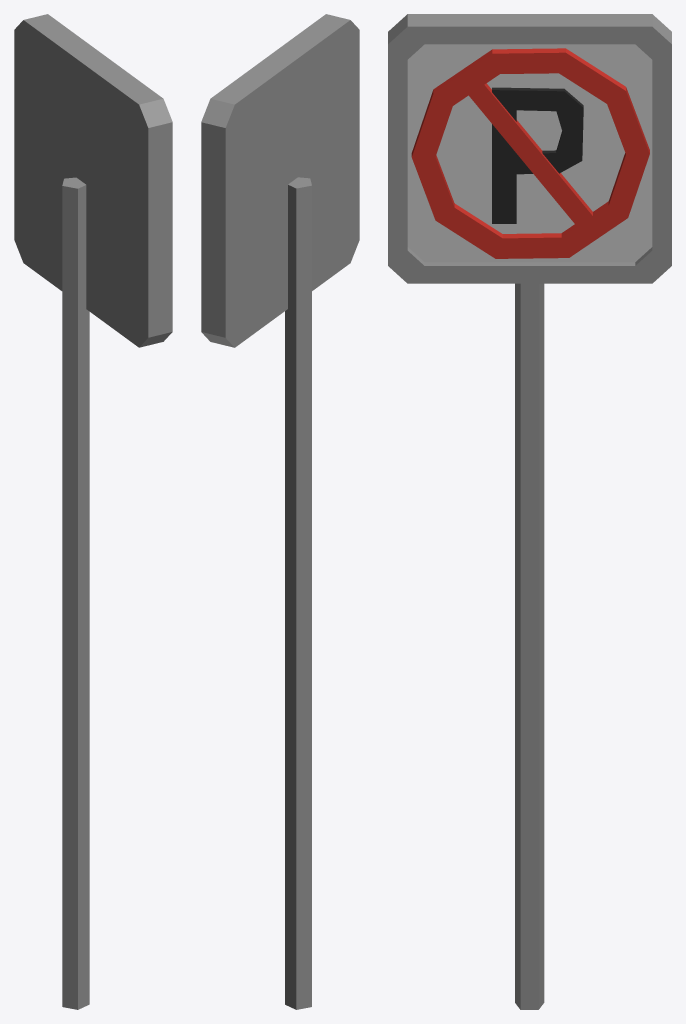
File: sign_noparking.glb
3 renders of one model, left to right at view 1: azimuth 30°, elevation 25°; view 2: azimuth 150°, elevation 25°; view 3: azimuth 270°, elevation 25°, orthographic. The views are drawn at different scales.
Visible parts, largest first — view 1: Pole.002; view 2: Pole.002; view 3: Pole.002, White.002, Red.001, Black.
Part boxes in pixels (x1,y1,x2,y2): Pole.002: (14,14,172,1009); Pole.002: (201,14,359,1009); Pole.002: (388,14,671,1009); White.002: (407,44,652,262); Red.001: (411,48,649,258); Black: (492,87,583,223).
Size of the model in its own units: 0.0269 by 0.5388 by 0.1394.
